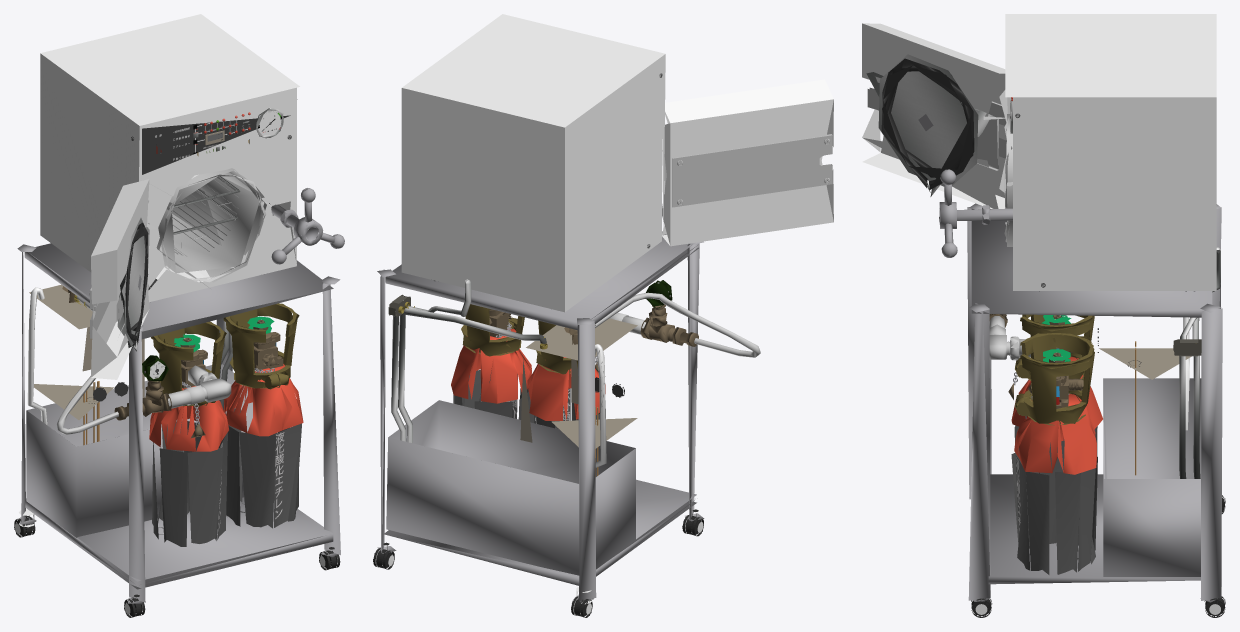
The model's file is eto_sterilizer.glb.
The picture shows the model from 3 angles, left to right: view 1: azimuth 30°, elevation 25°; view 2: azimuth 150°, elevation 25°; view 3: azimuth 270°, elevation 25°; orthographic projection. The views are drawn at different scales.
Parts seen in each view (by area): view 1: eto_sterilizer__Object_30, eto_sterilizer__Object_173, eto_sterilizer__Object_67, eto_sterilizer__Object_226, eto_sterilizer__Object_200, eto_sterilizer__Object_10, eto_sterilizer__Object_24, eto_sterilizer__Object_201, eto_sterilizer__Object_38, eto_sterilizer__Object_227, eto_sterilizer__Object_26, eto_sterilizer__Object_159 (+12 smaller); view 2: eto_sterilizer__Object_30, eto_sterilizer__Object_173, eto_sterilizer__Object_10, eto_sterilizer__Object_15, eto_sterilizer__Object_201, eto_sterilizer__Object_159, eto_sterilizer__Object_227, eto_sterilizer__Object_24, eto_sterilizer__Object_151, eto_sterilizer__Object_36, eto_sterilizer__Object_200, eto_sterilizer__Object_153 (+6 smaller); view 3: eto_sterilizer__Object_30, eto_sterilizer__Object_173, eto_sterilizer__Object_10, eto_sterilizer__Object_200, eto_sterilizer__Object_5, eto_sterilizer__Object_24, eto_sterilizer__Object_201, eto_sterilizer__Object_8, eto_sterilizer__Object_159, eto_sterilizer__Object_26, eto_sterilizer__Object_33, eto_sterilizer__Object_12 (+8 smaller).
Boxes of the visible parts, x1,y1,x2,y2 form: eto_sterilizer__Object_30: (40,14,296,302); eto_sterilizer__Object_173: (17,243,340,603); eto_sterilizer__Object_67: (156,168,266,289); eto_sterilizer__Object_226: (152,421,227,546); eto_sterilizer__Object_200: (226,408,301,528); eto_sterilizer__Object_10: (91,179,149,379); eto_sterilizer__Object_24: (223,303,299,389); eto_sterilizer__Object_201: (223,364,303,436); eto_sterilizer__Object_38: (142,115,290,174); eto_sterilizer__Object_227: (149,386,228,451); eto_sterilizer__Object_26: (151,321,226,406); eto_sterilizer__Object_159: (29,284,113,419); eto_sterilizer__Object_30: (401,17,661,312); eto_sterilizer__Object_173: (377,231,704,602); eto_sterilizer__Object_10: (662,79,833,246); eto_sterilizer__Object_15: (672,134,832,207); eto_sterilizer__Object_201: (451,328,531,403); eto_sterilizer__Object_159: (526,318,637,448); eto_sterilizer__Object_227: (527,357,605,420); eto_sterilizer__Object_24: (461,304,524,356); eto_sterilizer__Object_151: (595,292,760,357); eto_sterilizer__Object_36: (498,14,665,234); eto_sterilizer__Object_200: (453,369,529,419); eto_sterilizer__Object_153: (404,308,546,343); eto_sterilizer__Object_30: (1013,14,1216,290); eto_sterilizer__Object_173: (967,203,1222,602); eto_sterilizer__Object_10: (862,23,1007,208); eto_sterilizer__Object_200: (1011,441,1097,574); eto_sterilizer__Object_5: (866,54,994,196); eto_sterilizer__Object_24: (1014,333,1094,425); eto_sterilizer__Object_201: (1014,393,1096,474); eto_sterilizer__Object_8: (881,58,974,189); eto_sterilizer__Object_159: (1099,348,1191,379); eto_sterilizer__Object_26: (1015,314,1094,380); eto_sterilizer__Object_33: (939,184,1012,243); eto_sterilizer__Object_12: (867,87,998,170).
Size of the model in its own units: 0.8407 by 1.3 by 0.8434.
Materials: 32 (6 with a texture image).
